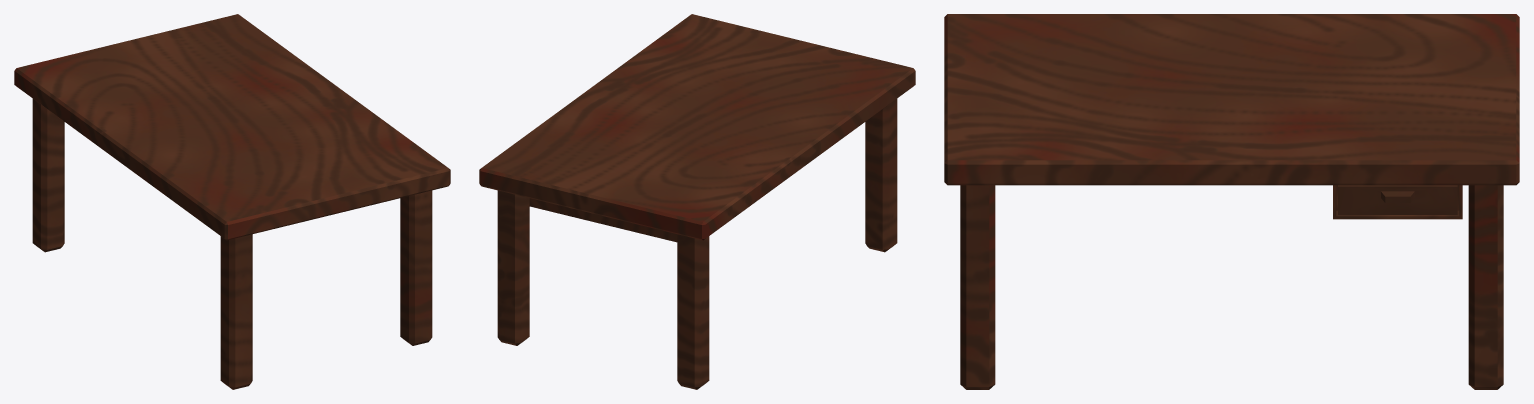
File: laud.glb
The picture shows the model from 3 angles, left to right: view 1: azimuth 30°, elevation 25°; view 2: azimuth 150°, elevation 25°; view 3: azimuth 270°, elevation 25°; orthographic projection. The views are drawn at different scales.
Visible parts, largest first — view 1: Cube; view 2: Cube; view 3: Cube.
Part boxes in pixels (x1,y1,x2,y2): Cube: [14, 14, 450, 389]; Cube: [479, 14, 915, 389]; Cube: [944, 14, 1519, 389].
Size of the model in its own units: 0.9481 by 0.7037 by 1.54.
1 material, 1 textured.
